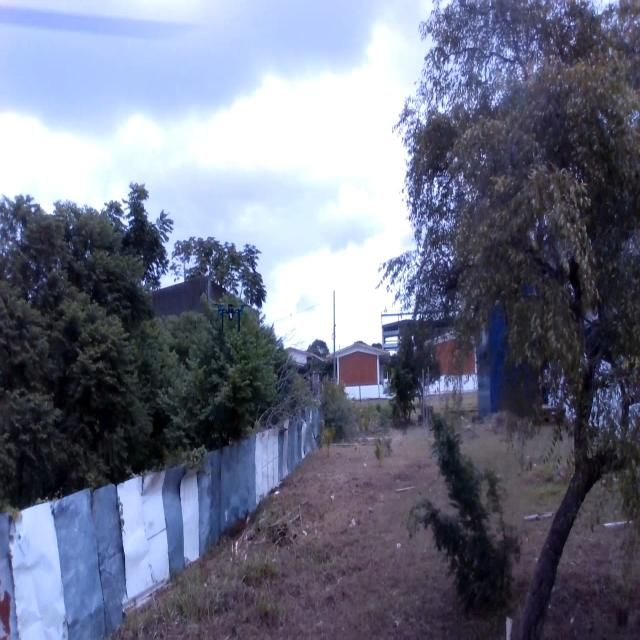-uav-: (210, 283, 251, 347)
